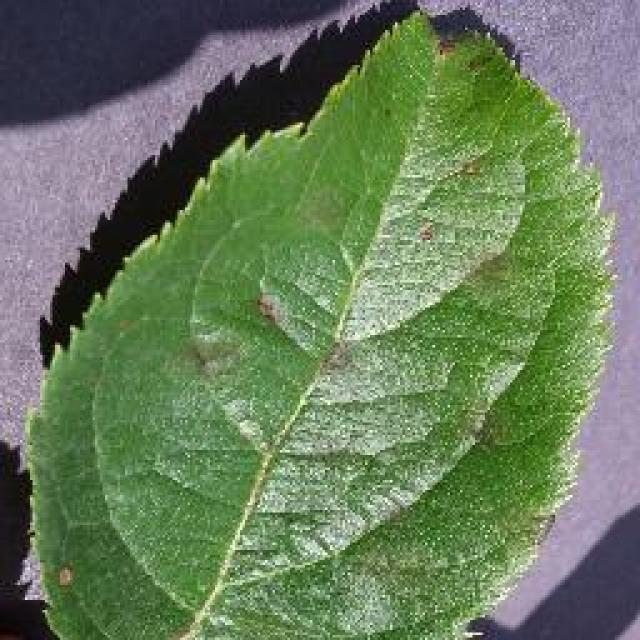apple scab disease: (20, 0, 620, 638)
